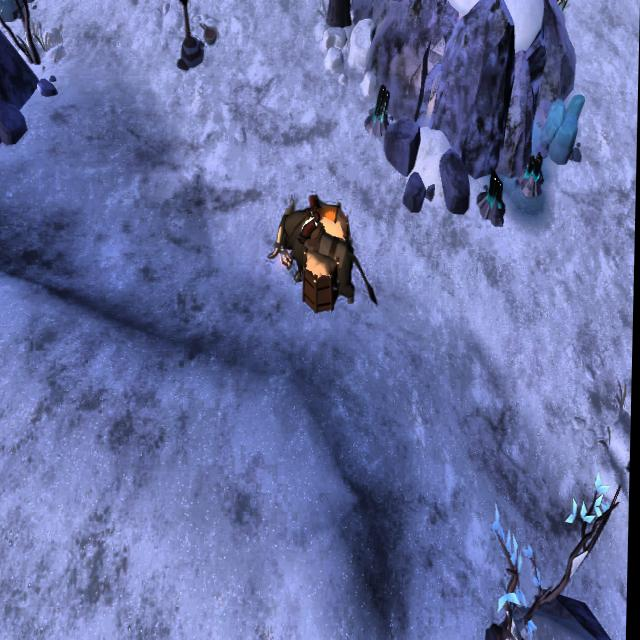ore_t4: (372, 82, 391, 134), (484, 169, 505, 212), (526, 147, 544, 187)
rock_t4: (538, 93, 584, 167)
